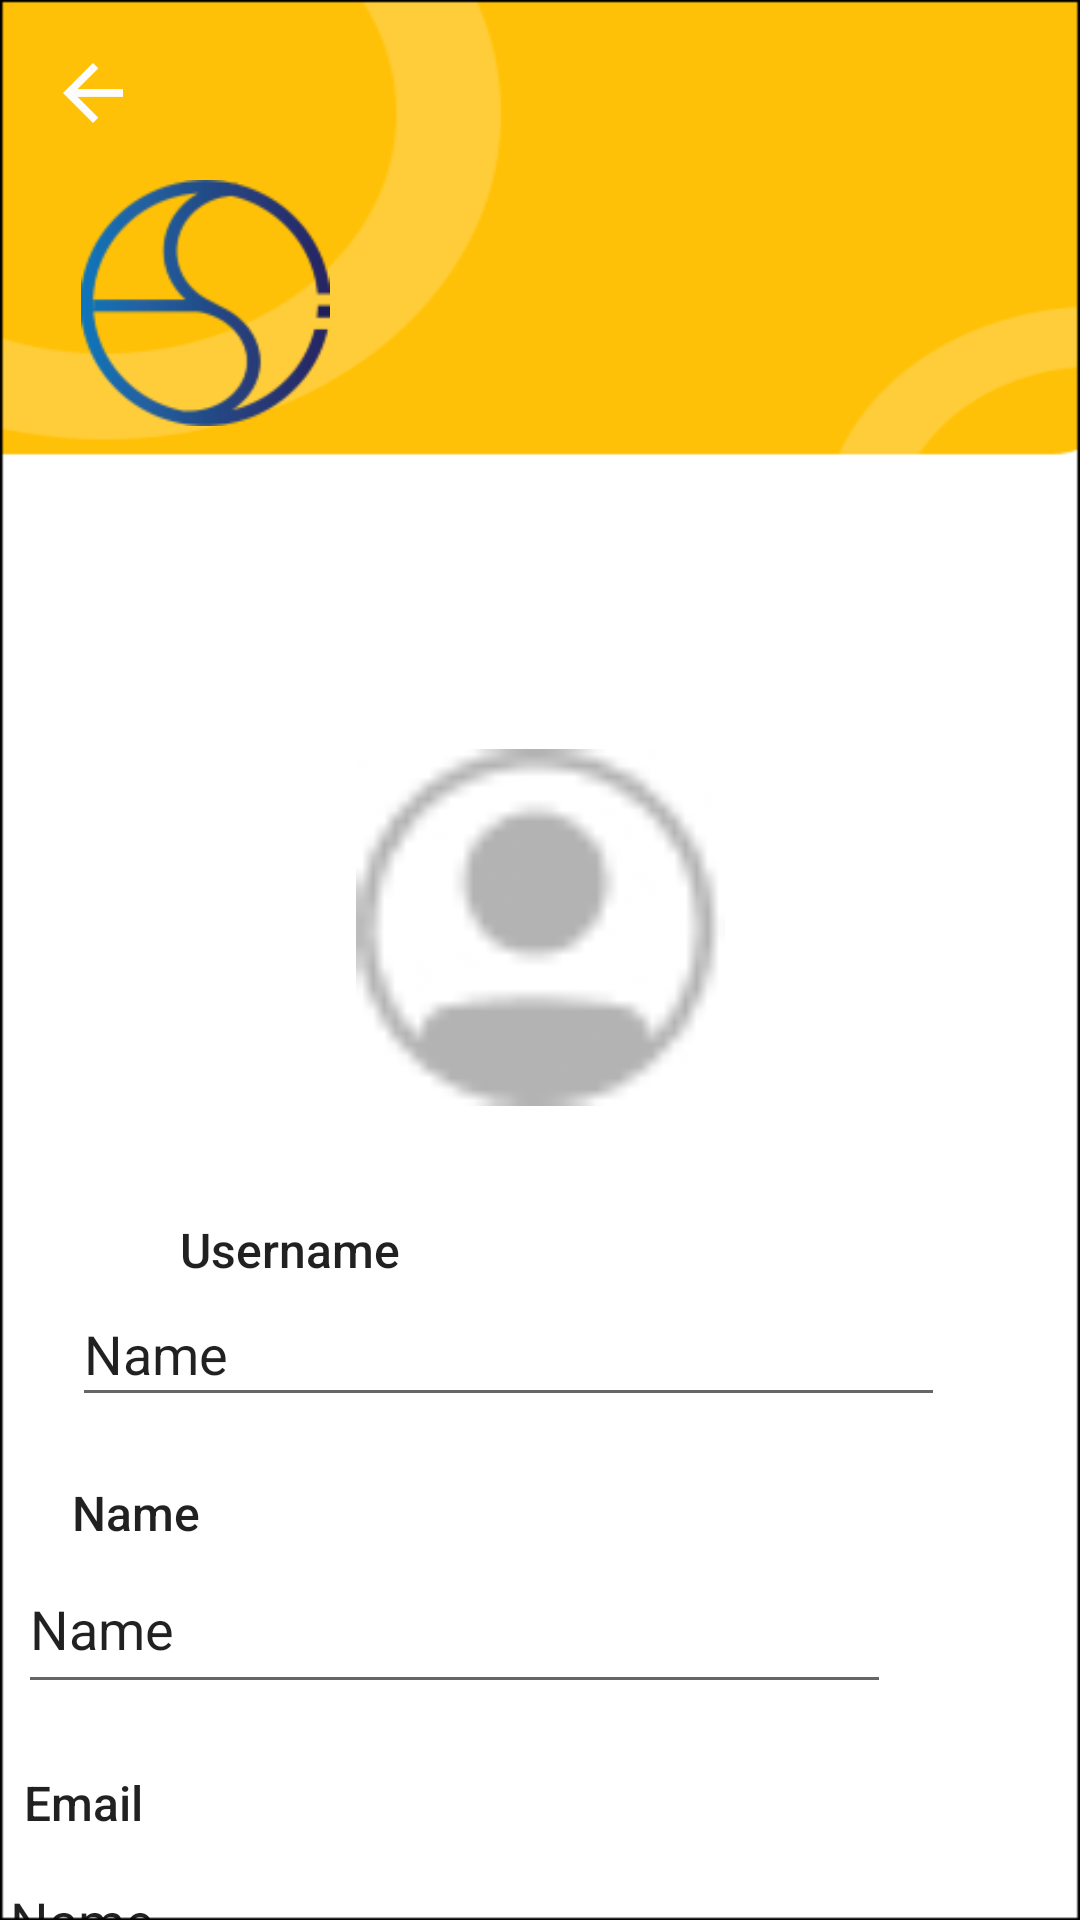

Screen size 1080 × 1920. Icon name, then its center in pixels as (x,y):
arrow left: (93,93)
profile: (536,927)
